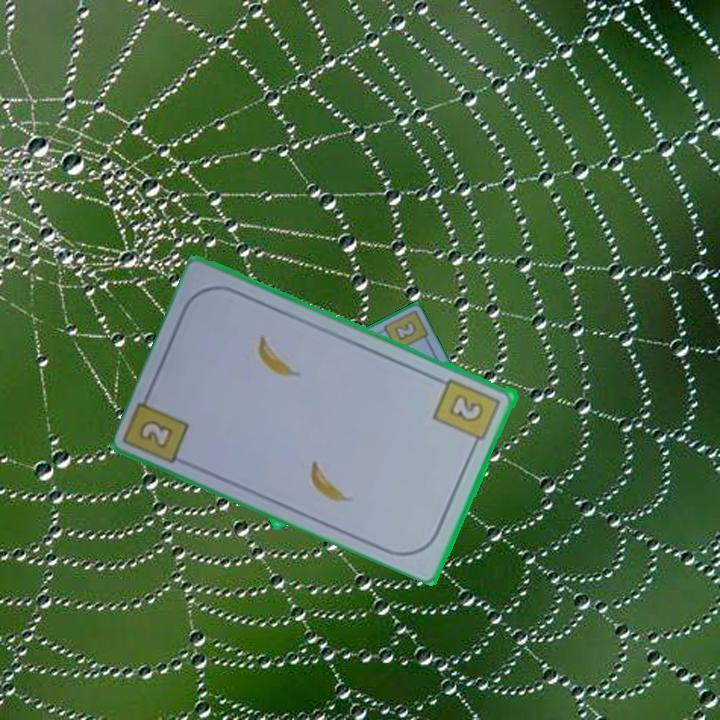2b: (430, 374, 504, 451), (135, 415, 177, 452), (390, 317, 419, 344)
